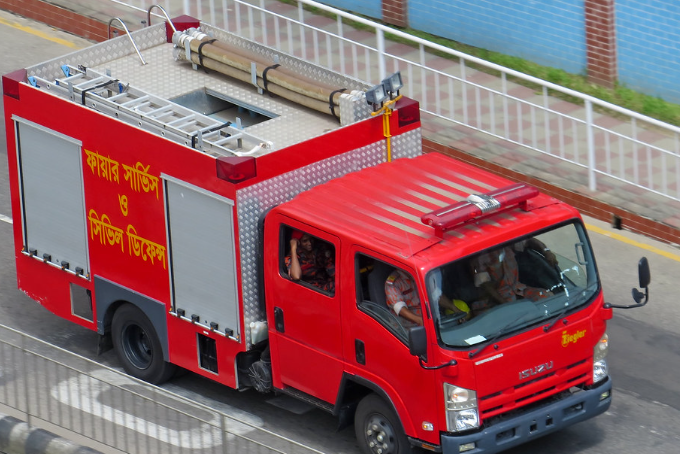Fire truck: (3, 9, 659, 444)
